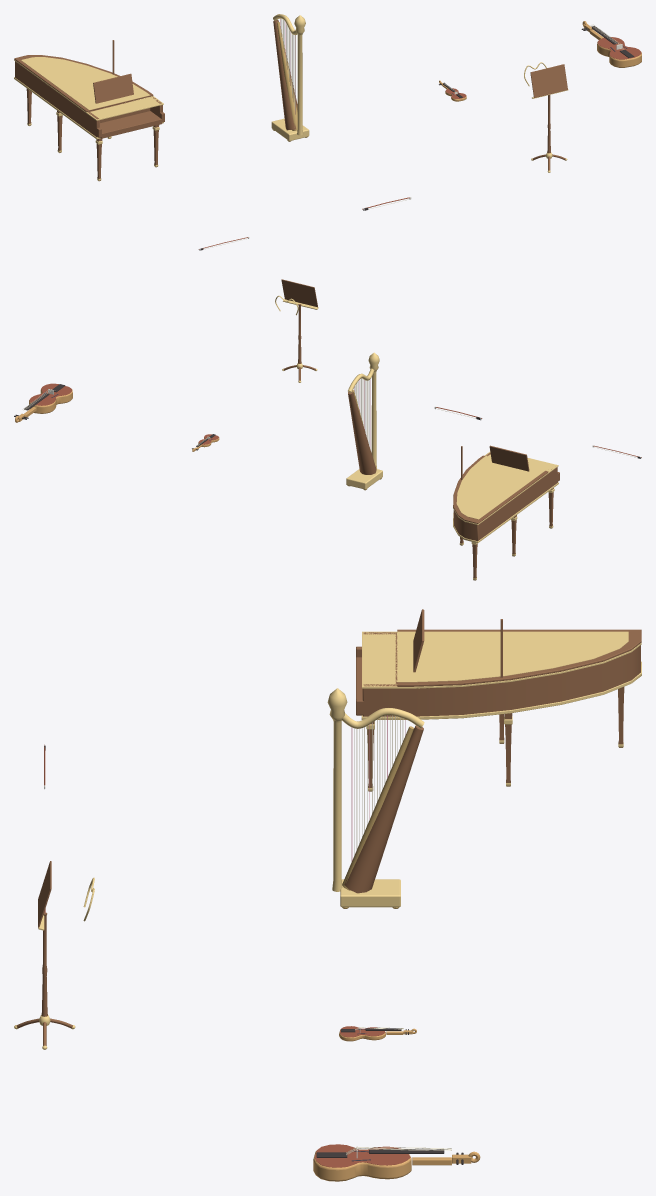
Rendered from instruments.glb.
The picture shows the model from 3 angles, top to bottom: view 1: azimuth 30°, elevation 25°; view 2: azimuth 150°, elevation 25°; view 3: azimuth 270°, elevation 25°; orthographic projection. The views are drawn at different scales.
Visible parts, largest first — view 1: fp_body, fortepiano_lid_mesh, hp_body, ms_body, cello_mesh, harp_strings; view 2: fp_body, fortepiano_lid_mesh, hp_body, ms_body, cello_mesh, harp_strings; view 3: fp_body, fortepiano_lid_mesh, hp_body, cello_mesh, harp_strings, ms_body, violin_mesh.
Boxes of the visible parts, box(x1,y1,x2,y2) form: fp_body: box(14, 59, 164, 181); fortepiano_lid_mesh: box(14, 55, 153, 111); hp_body: box(271, 14, 309, 141); ms_body: box(524, 62, 568, 172); cello_mesh: box(581, 21, 641, 67); harp_strings: box(280, 18, 295, 114); fp_body: box(453, 445, 559, 580); fortepiano_lid_mesh: box(453, 455, 548, 523); hp_body: box(346, 352, 382, 490); ms_body: box(275, 279, 318, 382); cello_mesh: box(14, 383, 72, 422); harp_strings: box(354, 378, 370, 447); fp_body: box(356, 609, 641, 791); fortepiano_lid_mesh: box(397, 629, 641, 686); hp_body: box(327, 688, 424, 908); cello_mesh: box(313, 1144, 480, 1181); harp_strings: box(351, 715, 405, 861); ms_body: box(14, 861, 94, 1049); violin_mesh: box(339, 1026, 416, 1041).
Size of the model in its own units: 7.91 by 1.79 by 4.74.
